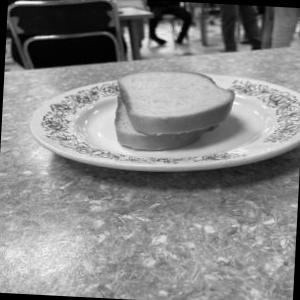bread: (98, 60, 256, 188)
